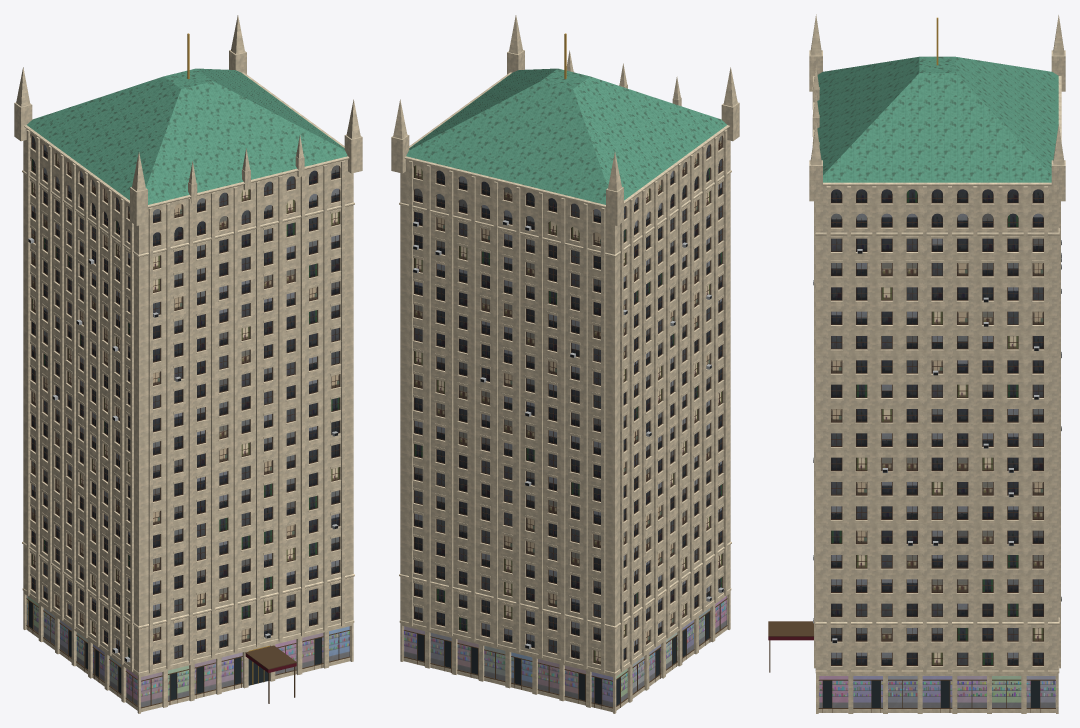
The model's file is hd28_gothic_apartment_tower.gltf.
3 renders of one model, left to right at view 1: azimuth 30°, elevation 25°; view 2: azimuth 150°, elevation 25°; view 3: azimuth 270°, elevation 25°, orthographic. The views are drawn at different scales.
Parts seen in each view (by area): view 1: hd28_gothic_apartment_tower_LOD0; view 2: hd28_gothic_apartment_tower_LOD0; view 3: hd28_gothic_apartment_tower_LOD0.
Part boxes in pixels (x1,y1,x2,y2): hd28_gothic_apartment_tower_LOD0: (14, 15, 362, 713); hd28_gothic_apartment_tower_LOD0: (391, 15, 739, 713); hd28_gothic_apartment_tower_LOD0: (768, 14, 1065, 713).
Size of what is drawn, in the model's own units: 31.6 by 81.65 by 34.32.
Materials: 12 (5 with a texture image).
